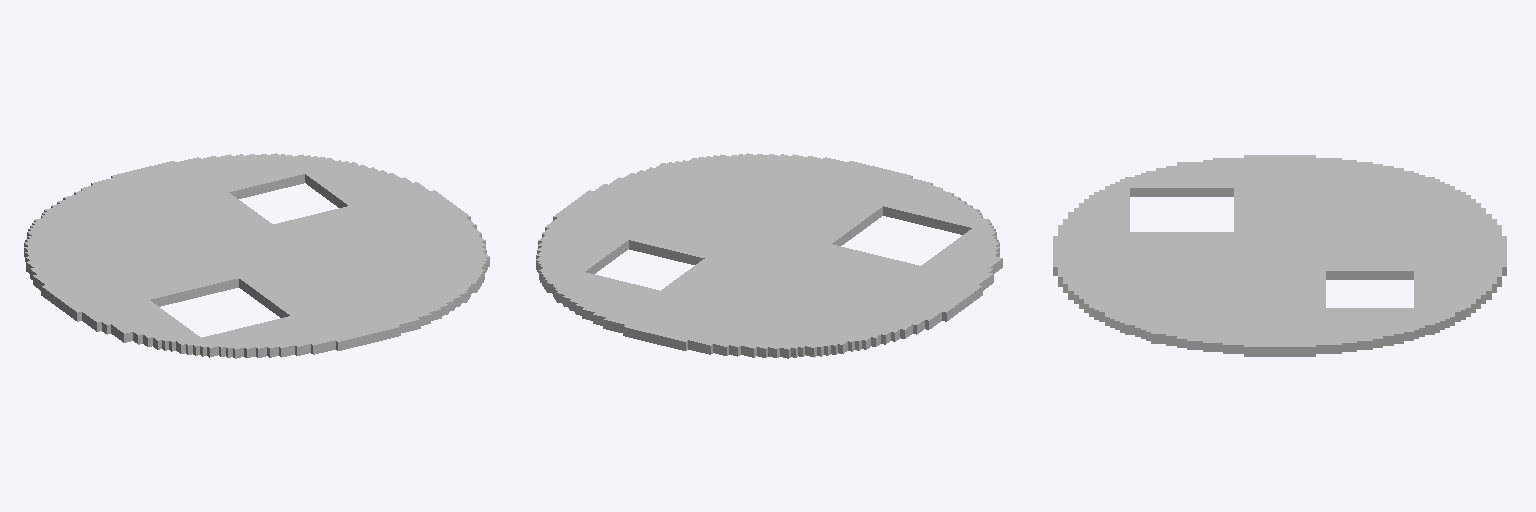
File: 2 лвл-7.obj
3 renders of one model, left to right at view 1: azimuth 30°, elevation 25°; view 2: azimuth 150°, elevation 25°; view 3: azimuth 270°, elevation 25°, orthographic.
Parts seen in each view (by area): view 1: object 1; view 2: object 1; view 3: object 1.
Part boxes in pixels (x1,y1,x2,y2): object 1: (24, 153, 489, 358); object 1: (536, 153, 1002, 358); object 1: (1053, 155, 1506, 356).
Size of the model in its own units: 8.8 by 0.2 by 8.8.